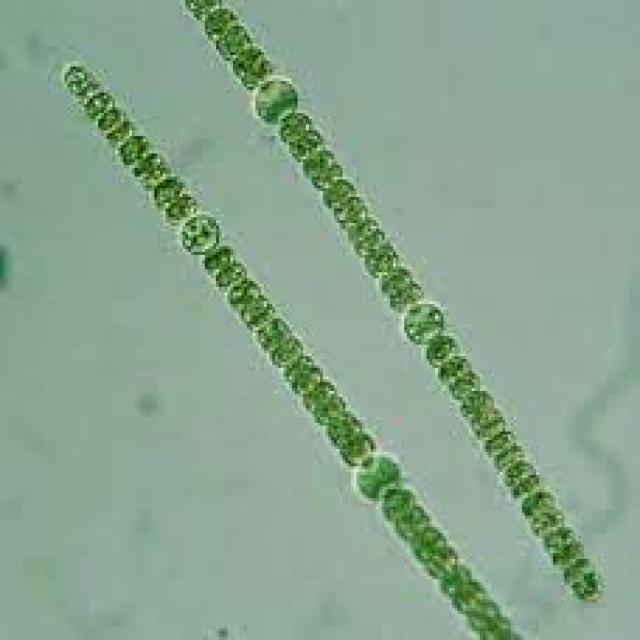Blue Green Algae: (250, 72, 300, 128), (351, 226, 401, 272), (177, 208, 224, 255), (522, 492, 567, 536), (376, 266, 424, 307), (435, 356, 483, 397), (200, 243, 244, 287), (402, 301, 446, 345), (225, 43, 272, 84), (244, 318, 295, 354), (544, 527, 586, 568), (376, 484, 424, 518), (480, 432, 522, 469), (460, 391, 500, 429), (303, 379, 340, 420), (199, 3, 239, 40), (210, 20, 256, 52), (163, 191, 205, 226), (500, 458, 539, 495), (284, 350, 320, 388), (407, 524, 446, 559), (78, 87, 118, 119), (224, 278, 264, 310), (340, 432, 376, 466), (424, 545, 457, 582), (438, 565, 471, 602), (390, 507, 432, 536), (418, 333, 458, 362), (132, 154, 171, 182), (326, 414, 359, 446), (244, 296, 275, 328), (334, 194, 368, 223), (278, 110, 306, 139), (95, 107, 124, 133), (317, 180, 351, 202), (286, 130, 320, 151), (112, 136, 149, 154), (104, 122, 135, 139)
